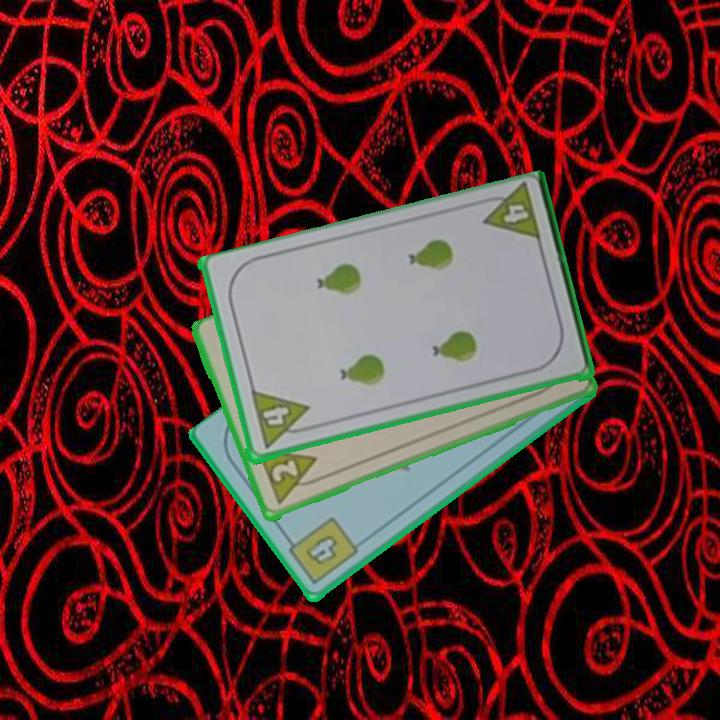2p: (253, 446, 327, 509)
4b: (281, 513, 362, 588)
4p: (474, 182, 544, 247), (247, 388, 315, 453)
